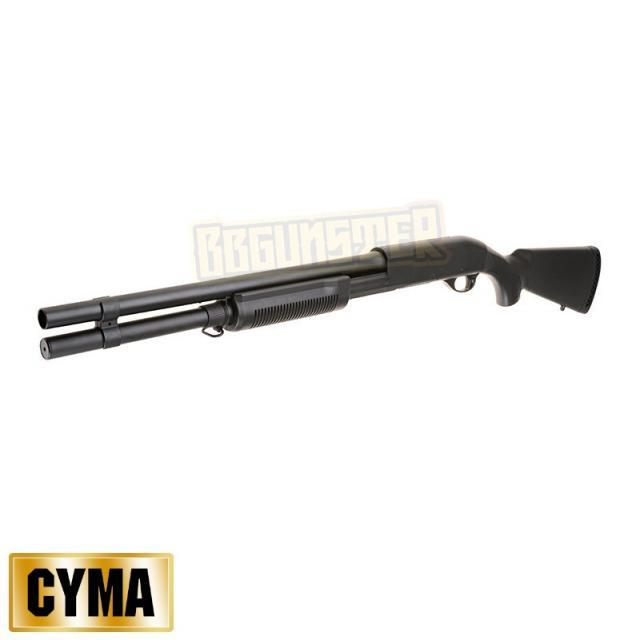shotgun: (33, 219, 615, 362)
